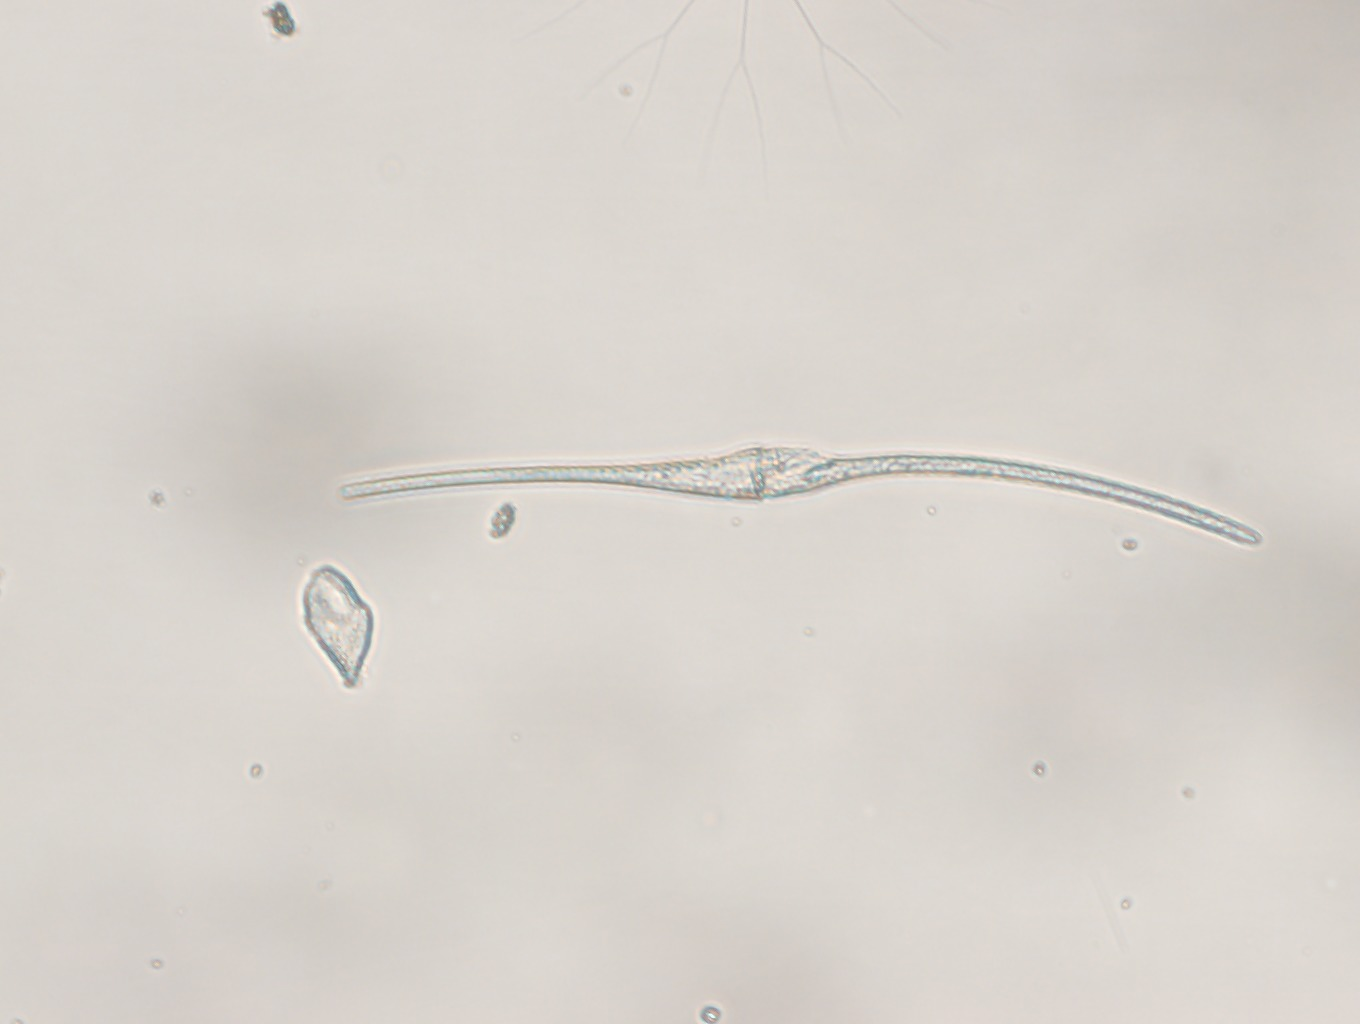ceratium fusus: (337, 439, 1262, 552)
